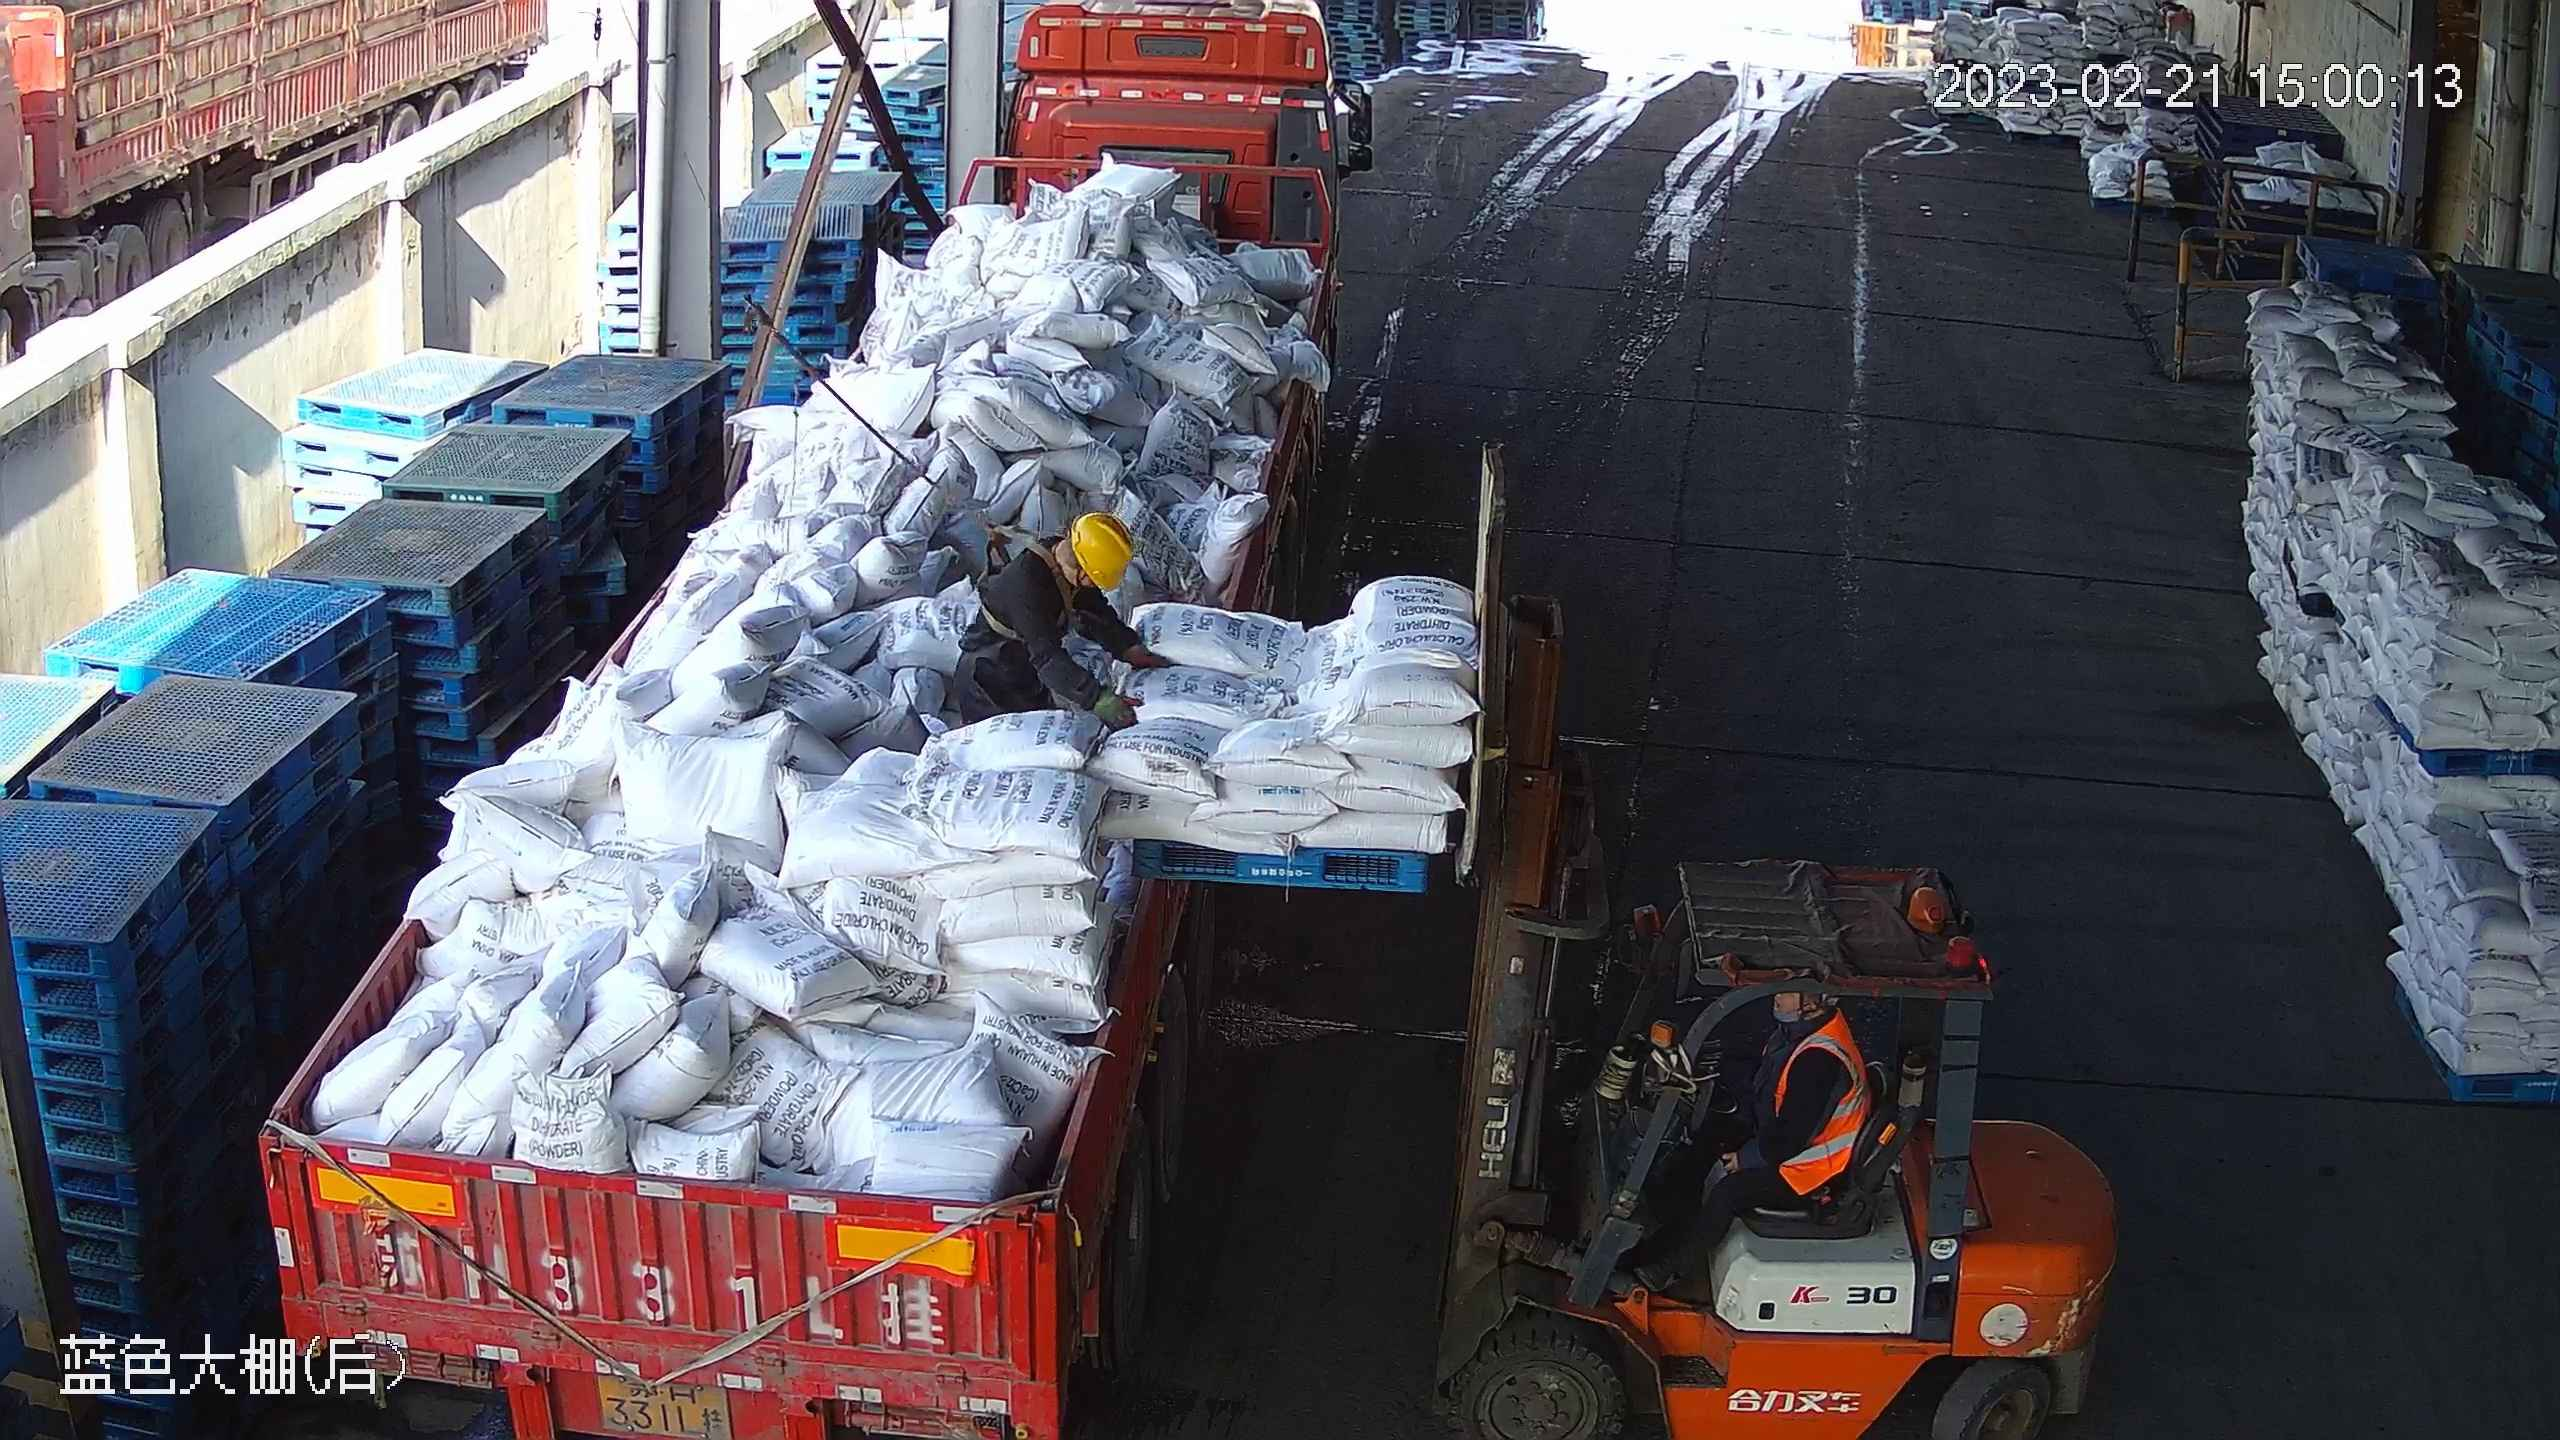belt: (959, 506, 1064, 643)
head: (977, 488, 1125, 629), (1740, 988, 1868, 1101)
helmet: (1055, 506, 1138, 595)
people: (1673, 977, 1888, 1271), (936, 495, 1146, 751)
truck: (255, 8, 1346, 1440)
